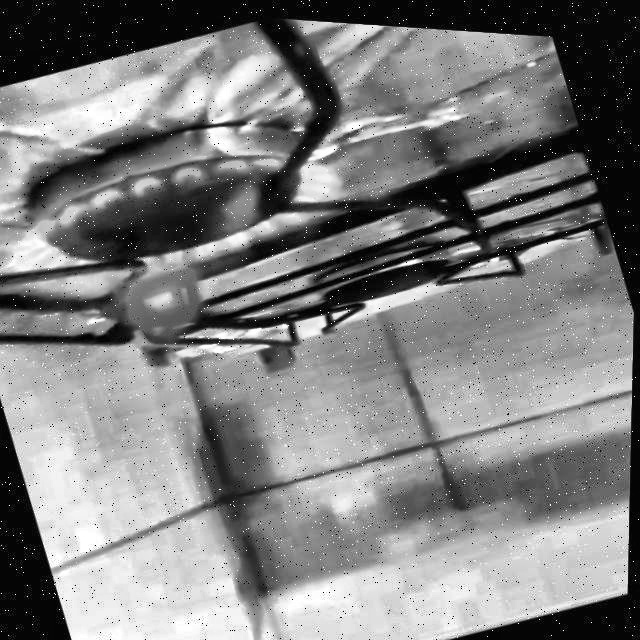Fire: (0, 100, 385, 404)
